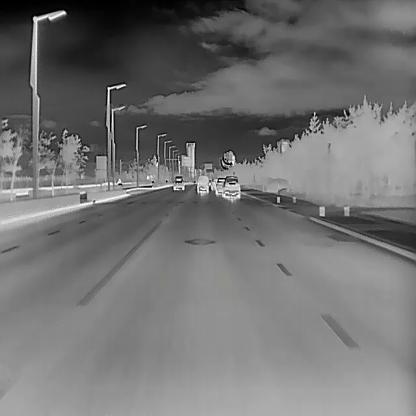car: (222, 176, 240, 197), (213, 177, 226, 194), (196, 174, 208, 192), (172, 175, 184, 191), (210, 176, 220, 190)
